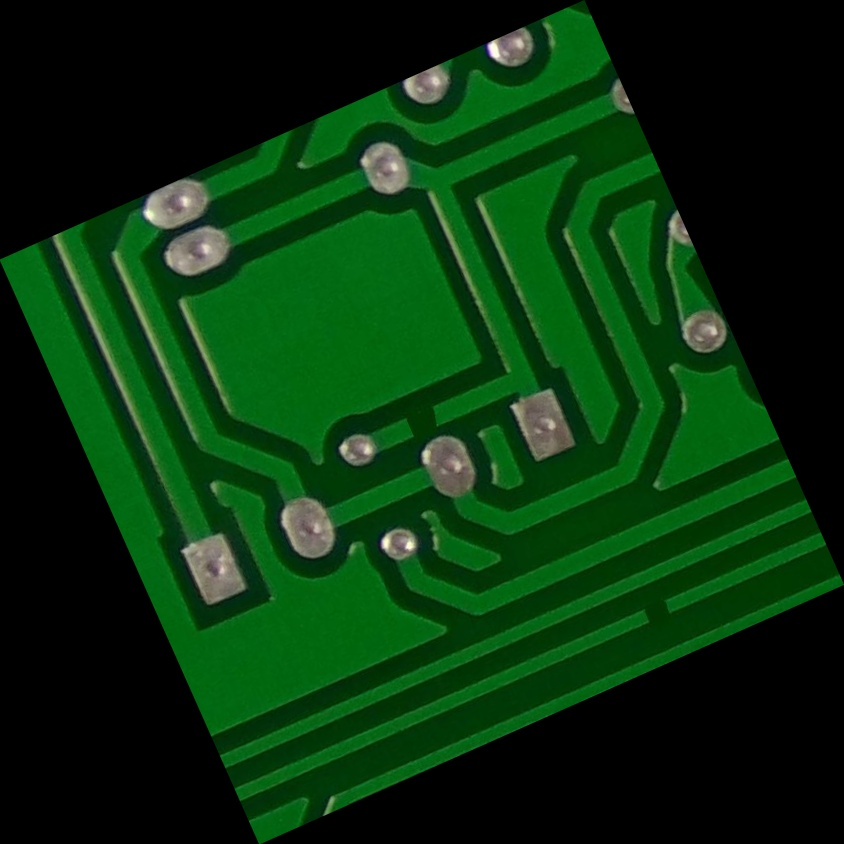open_circuit: (387, 390, 457, 454)
